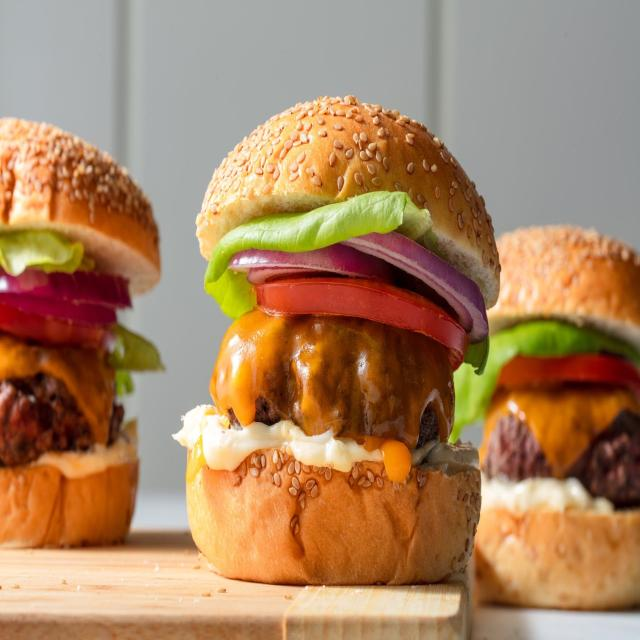burger: (172, 87, 501, 577), (2, 112, 169, 542), (476, 220, 633, 609)
